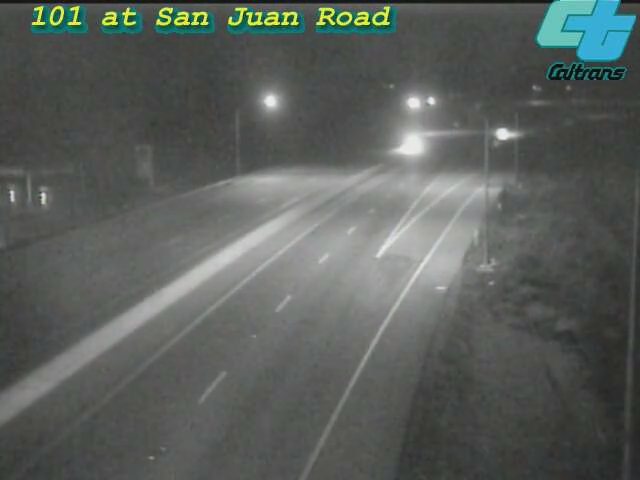vehicle: (386, 120, 436, 170), (477, 109, 527, 159)
